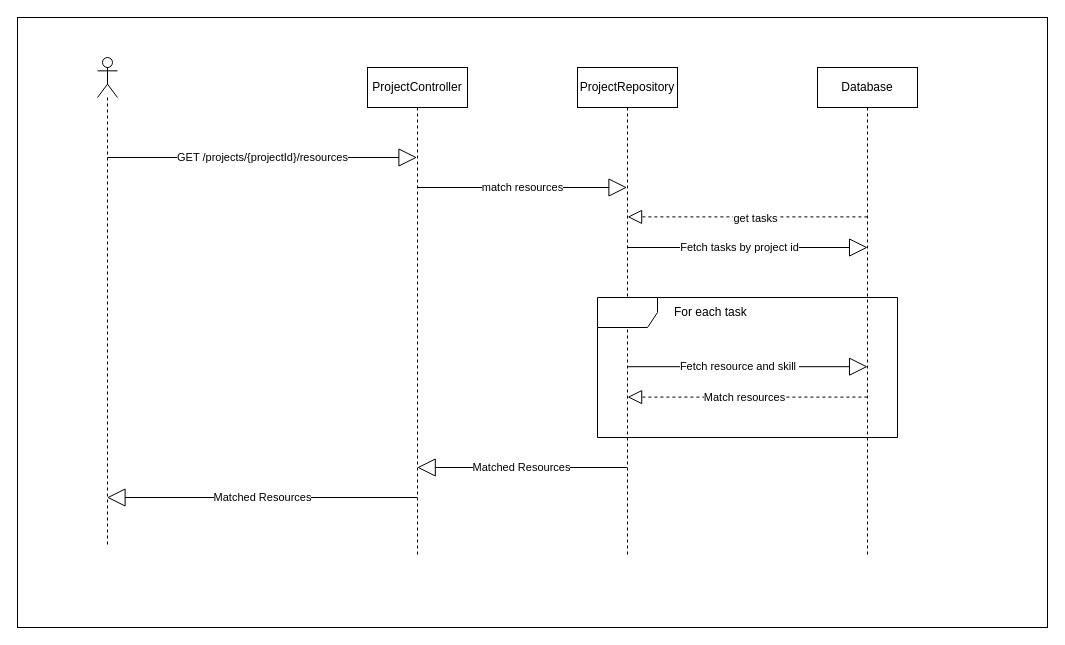
Image size: 1065x645. Some labels were removed from this diagram. Each missing label, with the box of its shape:
loop: (596, 296, 898, 438)
Manager: (96, 56, 118, 548)
